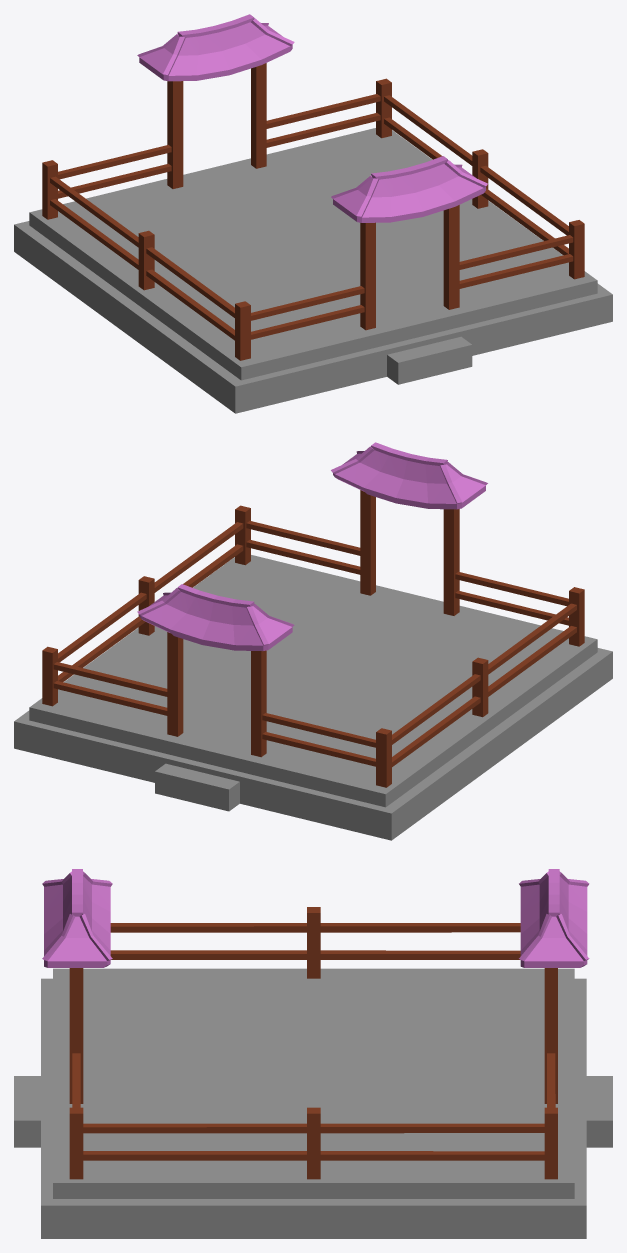
File: Ring.FBX
The picture shows the model from 3 angles, top to bottom: view 1: azimuth 30°, elevation 25°; view 2: azimuth 150°, elevation 25°; view 3: azimuth 270°, elevation 25°; orthographic projection. The views are drawn at different scales.
Visible parts, largest first — view 1: Ring; view 2: Ring; view 3: Ring.
Boxes of the visible parts, x1,y1,x2,y2 form: Ring: (14, 14, 612, 413); Ring: (14, 442, 612, 840); Ring: (14, 869, 612, 1238).
Size of the model in its own units: 135 by 65.2 by 151.
